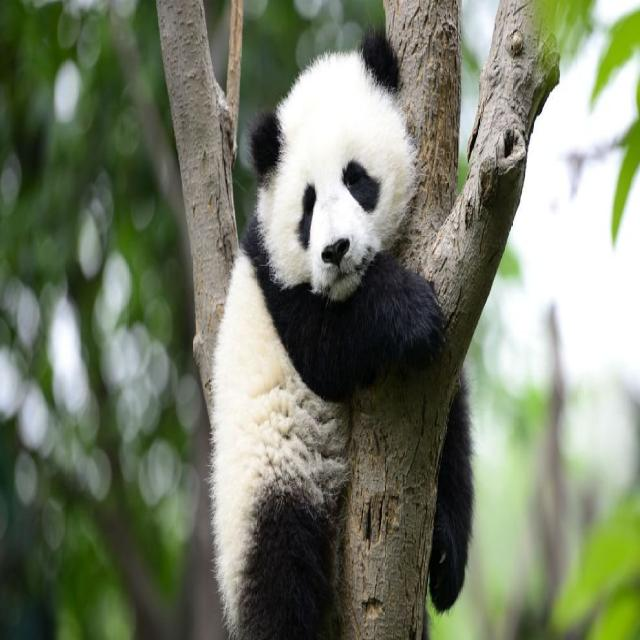Panda: (207, 39, 487, 640)
